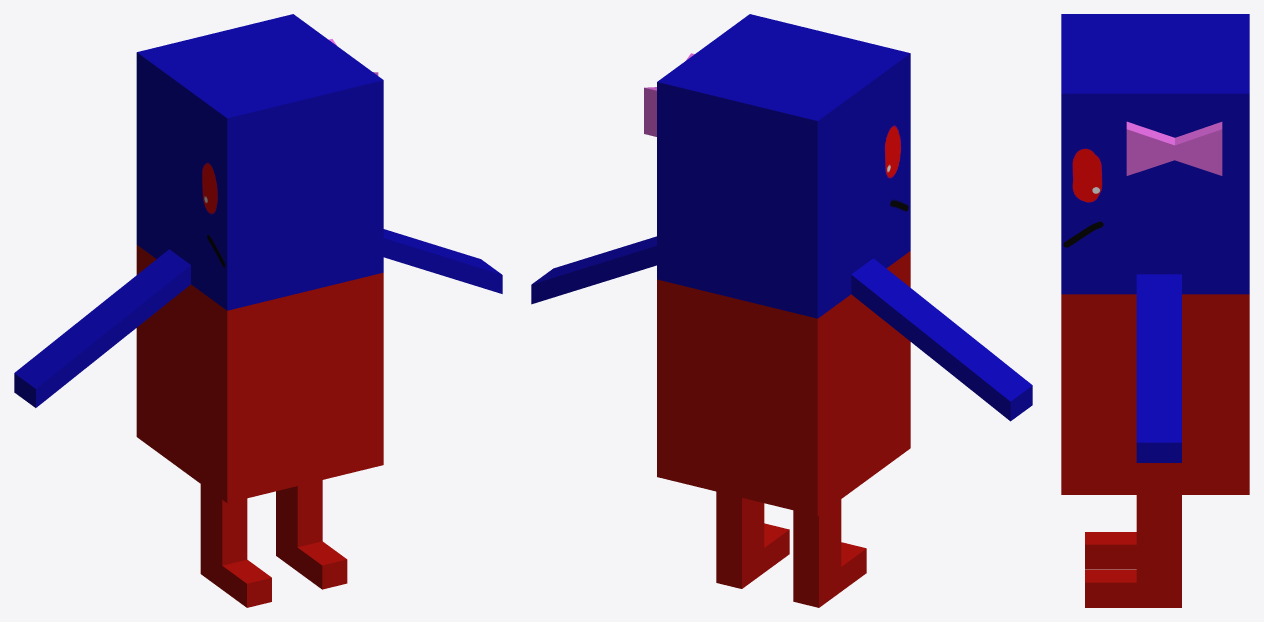
Rendered from lady3.fbx.
3 renders of one model, left to right at view 1: azimuth 30°, elevation 25°; view 2: azimuth 150°, elevation 25°; view 3: azimuth 270°, elevation 25°, orthographic. The views are drawn at different scales.
Parts seen in each view (by area): view 1: pCube1; view 2: pCube1, pCube2; view 3: pCube1, pCube2.
Boxes of the visible parts, x1,y1,x2,y2 form: pCube1: (14, 14, 502, 607); pCube1: (531, 14, 1032, 607); pCube2: (644, 53, 694, 136); pCube1: (1061, 14, 1249, 607); pCube2: (1126, 121, 1222, 175).
Bounding box in the file's own units: 2.98 × 3.09 × 1.
2 materials, 1 textured.
